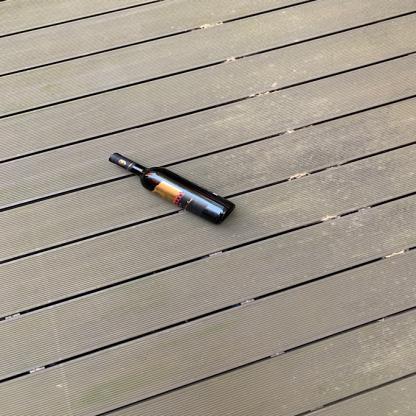trash: (106, 149, 240, 227)
